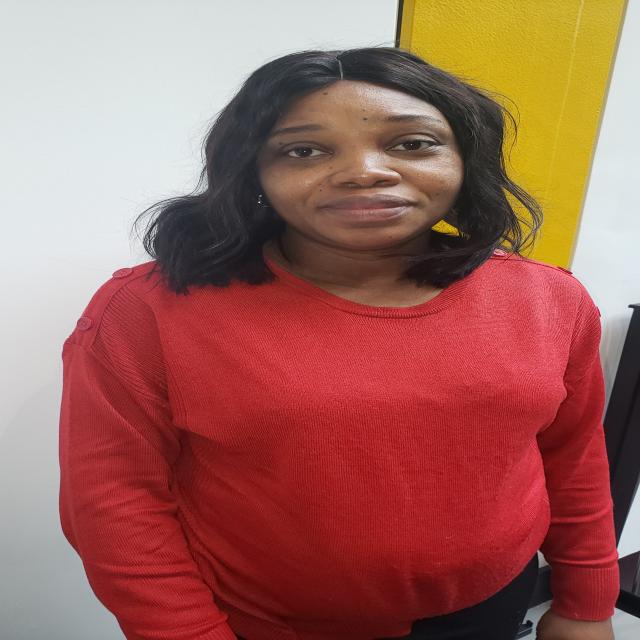sad: (234, 51, 474, 254)
